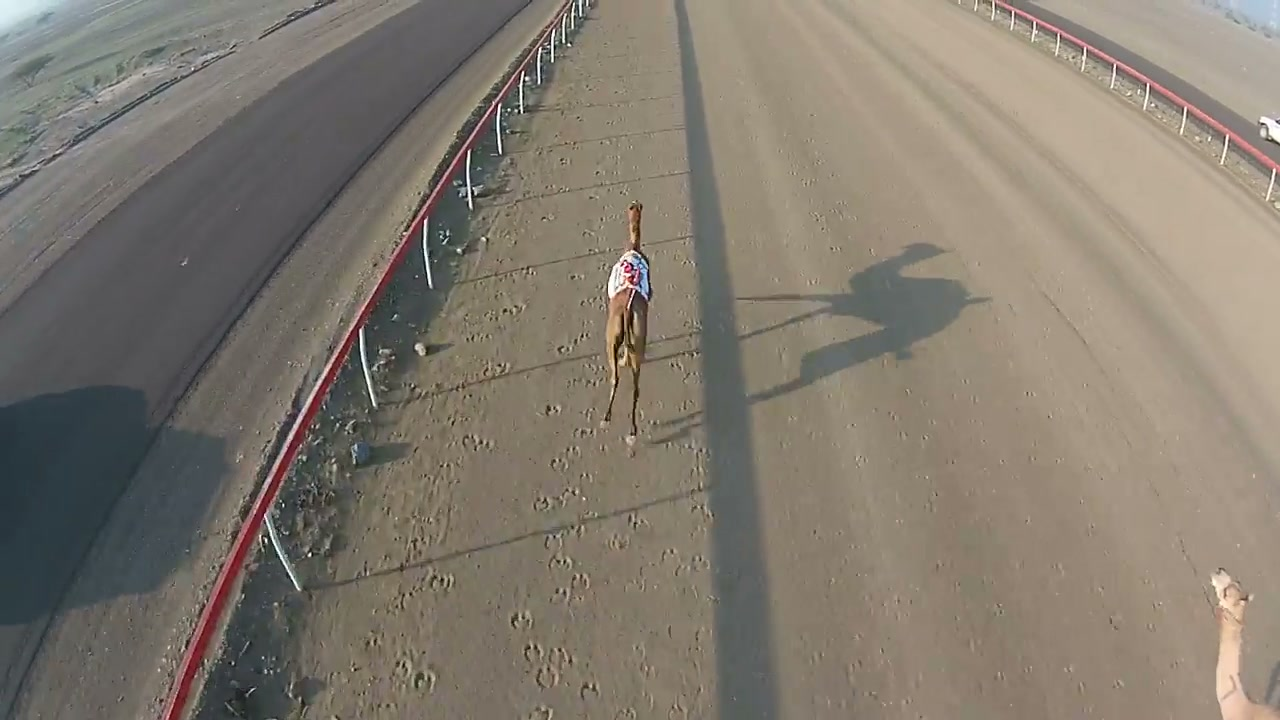animal_footprint: (395, 187, 562, 700), (502, 407, 620, 706)
